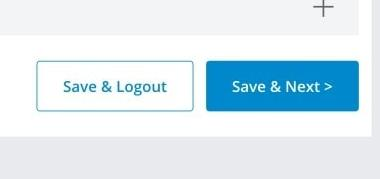button: (34, 59, 195, 113), (204, 60, 360, 113)
